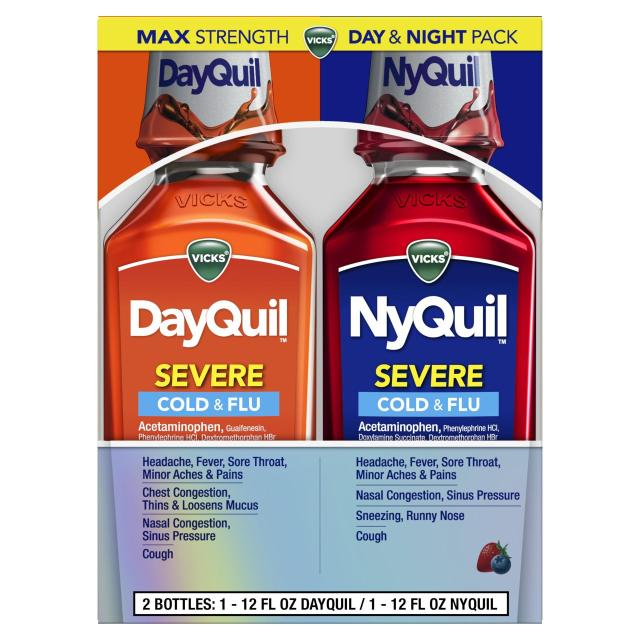medicine: (99, 17, 528, 620)
